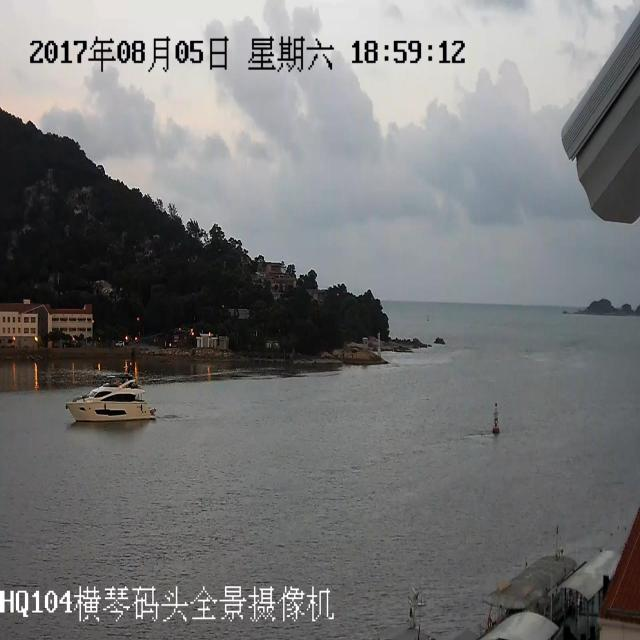buoy: (491, 372, 512, 438)
passenger ship: (57, 372, 158, 440)
reef: (566, 301, 634, 333)
